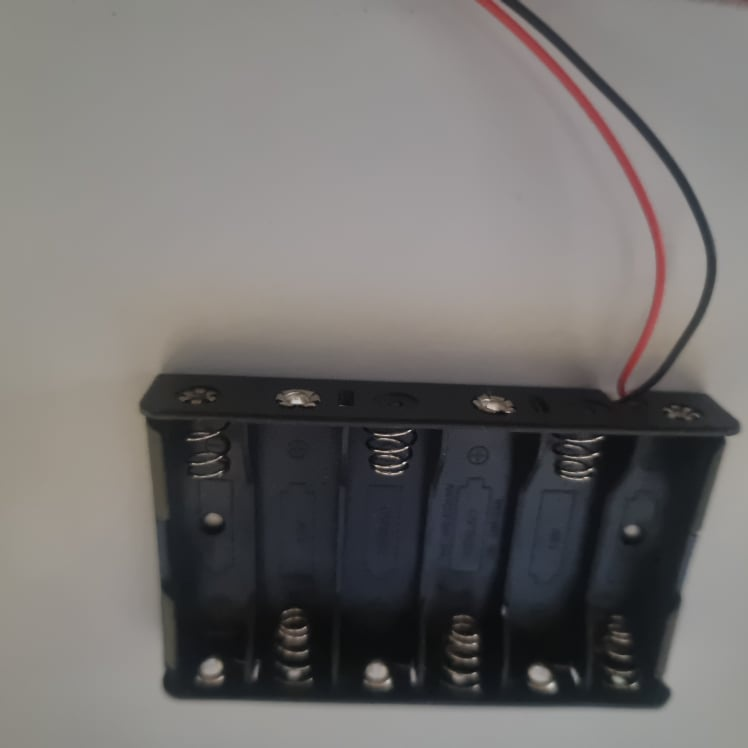BATTERY BOX: (136, 372, 740, 713)
